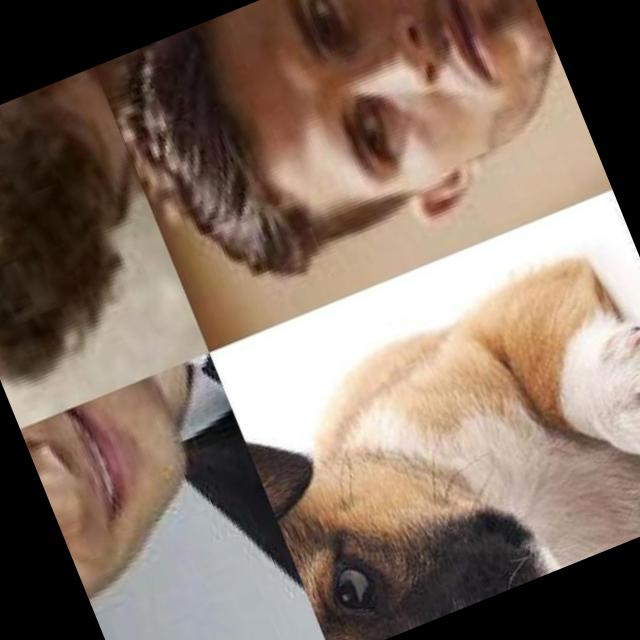bareface: (144, 0, 605, 315)
